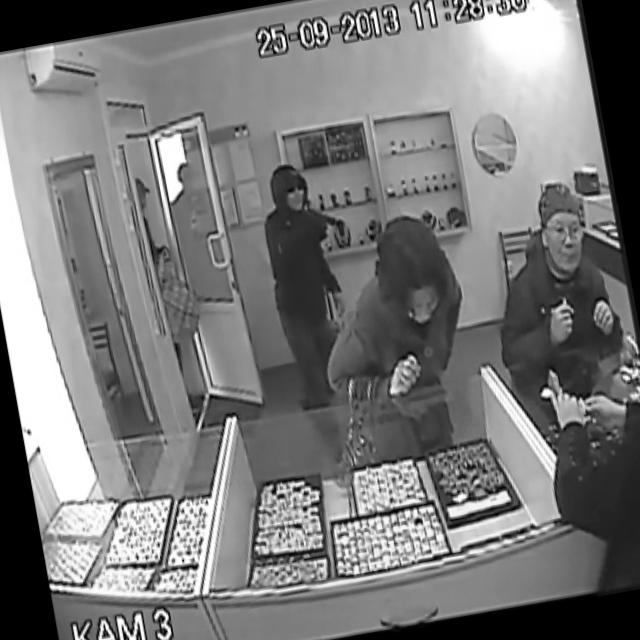gun: (301, 194, 345, 246)
person: (330, 208, 481, 438), (492, 178, 632, 381), (130, 170, 210, 398)
person with a gun: (244, 161, 370, 412)
